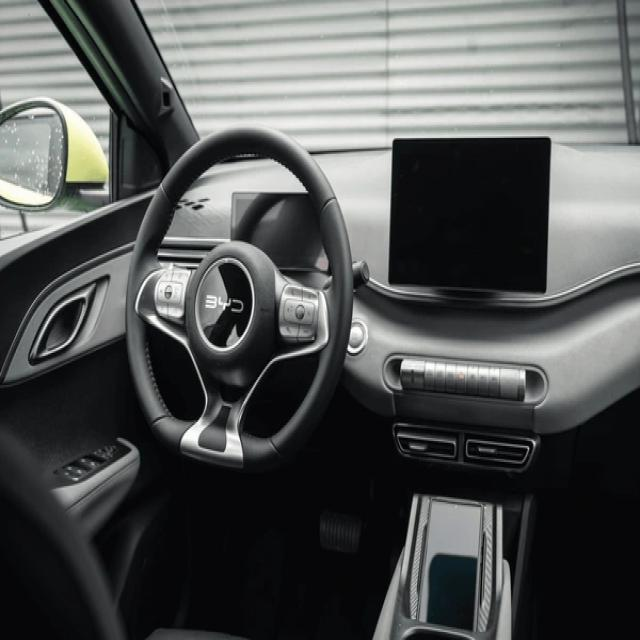byd: (204, 291, 244, 317)
